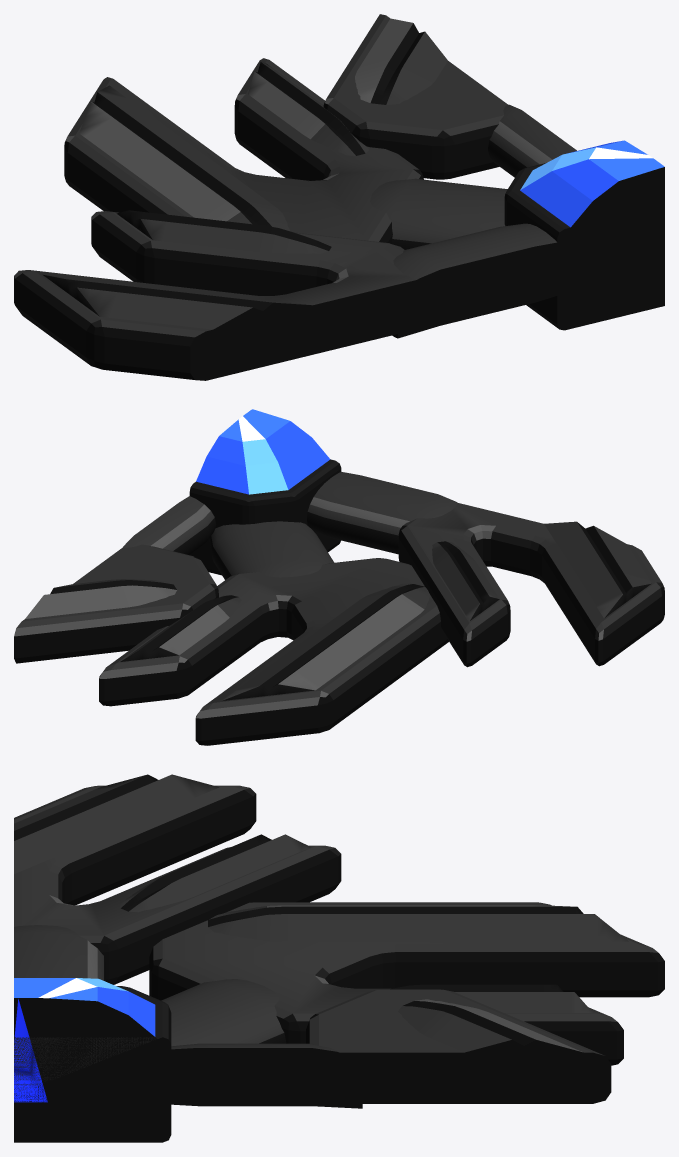
File: dark_saw_229.glb
3 views of the same model, one above another, from view 1: azimuth 30°, elevation 25°; view 2: azimuth 150°, elevation 25°; view 3: azimuth 270°, elevation 25° (orthographic). The views are drawn at different scales.
Parts seen in each view (by area): view 1: dark_saw_229_arm3_plate, dark_saw_229_under3_plate, dark_saw_229_arm0_plate, dark_saw_229_arm3_rod, dark_saw_229_gem, dark_saw_229_under3_ridge0, dark_saw_229_gem_bezel, dark_saw_229_arm3_ridge0, dark_saw_229_under3_rod, dark_saw_229_arm0_ridge0, dark_saw_229_arm3_ridge1, dark_saw_229_under3_ridge1 (+1 smaller); view 2: dark_saw_229_under3_plate, dark_saw_229_arm3_plate, dark_saw_229_arm0_plate, dark_saw_229_under3_ridge0, dark_saw_229_gem, dark_saw_229_arm3_rod, dark_saw_229_under3_rod, dark_saw_229_arm3_ridge0, dark_saw_229_gem_bezel, dark_saw_229_arm0_ridge0, dark_saw_229_arm0_rod, dark_saw_229_under3_ridge1 (+1 smaller); view 3: dark_saw_229_under3_plate, dark_saw_229_arm3_plate, dark_saw_229_arm0_plate, dark_saw_229_gem_bezel, dark_saw_229_gem, dark_saw_229_under3_ridge0, dark_saw_229_arm0_rod, dark_saw_229_arm3_ridge0, dark_saw_229_under3_rod, dark_saw_229_arm0_ridge0, dark_saw_229_arm3_ridge1, dark_saw_229_arm3_rod (+1 smaller).
Boxes of the visible parts, left/top/right/bottom form: dark_saw_229_arm3_plate: left=14, top=211, right=444, bottom=380; dark_saw_229_under3_plate: left=64, top=58, right=423, bottom=243; dark_saw_229_arm0_plate: left=323, top=14, right=507, bottom=179; dark_saw_229_arm3_rod: left=392, top=223, right=596, bottom=338; dark_saw_229_gem: left=520, top=140, right=664, bottom=268; dark_saw_229_under3_ridge0: left=79, top=85, right=289, bottom=230; dark_saw_229_gem_bezel: left=504, top=163, right=664, bottom=330; dark_saw_229_arm3_ridge0: left=43, top=274, right=322, bottom=340; dark_saw_229_under3_rod: left=370, top=178, right=507, bottom=249; dark_saw_229_arm0_ridge0: left=355, top=18, right=447, bottom=104; dark_saw_229_arm3_ridge1: left=116, top=210, right=331, bottom=253; dark_saw_229_under3_ridge1: left=248, top=62, right=368, bottom=155; dark_saw_229_under3_plate: left=99, top=558, right=448, bottom=745; dark_saw_229_arm3_plate: left=398, top=503, right=664, bottom=667; dark_saw_229_arm0_plate: left=14, top=544, right=218, bottom=663; dark_saw_229_under3_ridge0: left=222, top=583, right=430, bottom=700; dark_saw_229_gem: left=196, top=409, right=330, bottom=494; dark_saw_229_arm3_rod: left=307, top=472, right=457, bottom=554; dark_saw_229_under3_rod: left=209, top=521, right=334, bottom=579; dark_saw_229_arm3_ridge0: left=544, top=521, right=651, bottom=618; dark_saw_229_gem_bezel: left=189, top=459, right=341, bottom=575; dark_saw_229_arm0_ridge0: left=25, top=579, right=176, bottom=618; dark_saw_229_arm0_rod: left=123, top=496, right=216, bottom=555; dark_saw_229_under3_ridge1: left=120, top=595, right=241, bottom=661; dark_saw_229_under3_plate: left=149, top=902, right=664, bottom=1065; dark_saw_229_arm3_plate: left=14, top=785, right=341, bottom=984; dark_saw_229_arm0_plate: left=306, top=989, right=611, bottom=1103; dark_saw_229_gem_bezel: left=14, top=986, right=171, bottom=1142; dark_saw_229_gem: left=14, top=978, right=158, bottom=1104; dark_saw_229_under3_ridge0: left=208, top=905, right=628, bottom=941; dark_saw_229_arm0_rod: left=124, top=1043, right=362, bottom=1108; dark_saw_229_arm3_ridge0: left=14, top=774, right=219, bottom=873; dark_saw_229_under3_rod: left=161, top=979, right=286, bottom=1046; dark_saw_229_arm0_ridge0: left=398, top=999, right=595, bottom=1061; dark_saw_229_arm3_ridge1: left=119, top=834, right=310, bottom=912; dark_saw_229_arm3_rod: left=14, top=925, right=105, bottom=981.
Bounding box in the file's own units: 22.7 × 5.63 × 22.97.
